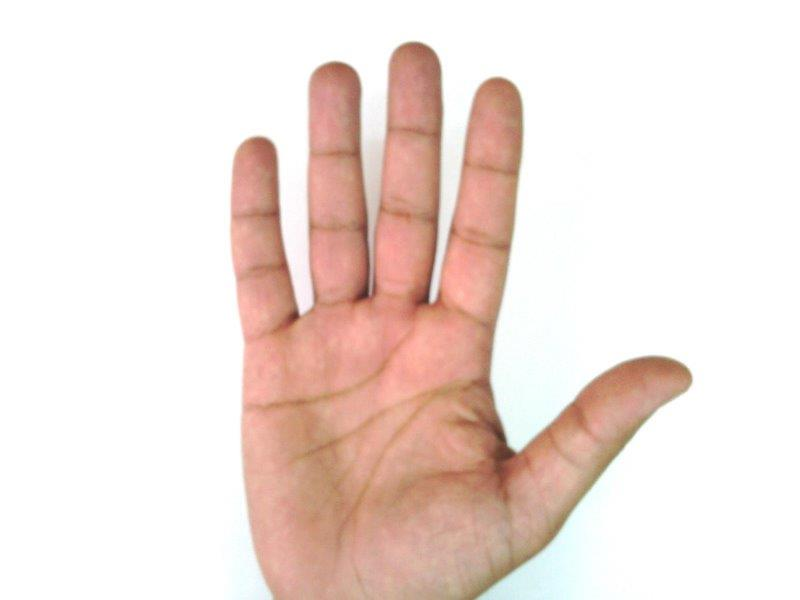hand: (231, 44, 693, 600)
